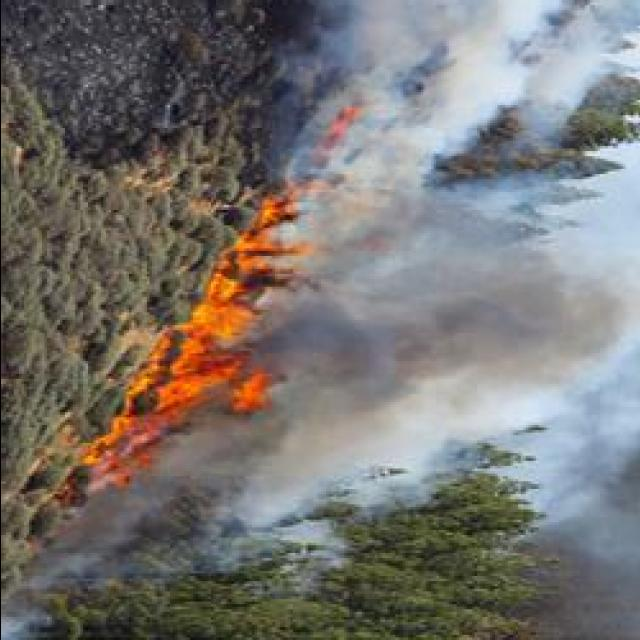fire: (196, 267, 256, 401), (140, 350, 203, 444), (221, 358, 275, 410)
smoke: (288, 0, 525, 103), (382, 270, 600, 364), (264, 304, 408, 396), (501, 0, 588, 108), (316, 168, 442, 232), (282, 386, 379, 456)
